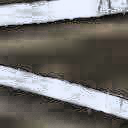crackTip: (1, 15, 128, 99)
